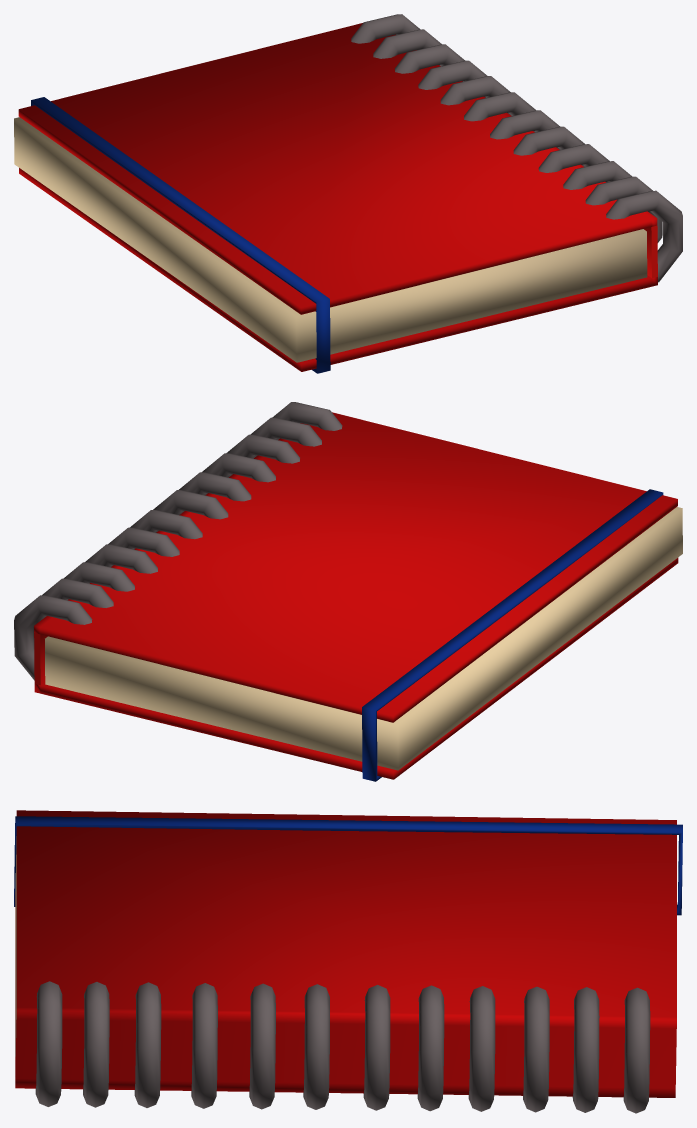
Rendered from CadernoEspiral.fbx.
3 renders of one model, top to bottom at view 1: azimuth 30°, elevation 25°; view 2: azimuth 150°, elevation 25°; view 3: azimuth 270°, elevation 25°, orthographic. The views are drawn at different scales.
Parts seen in each view (by area): view 1: CadernoEspiral; view 2: CadernoEspiral; view 3: CadernoEspiral.
Boxes of the visible parts, left/top/right/bottom form: CadernoEspiral: left=14, top=14, right=682, bottom=373; CadernoEspiral: left=14, top=402, right=682, bottom=781; CadernoEspiral: left=14, top=810, right=682, bottom=1113.
Bounding box in the file's own units: 18.67 × 4.36 × 23.18.
